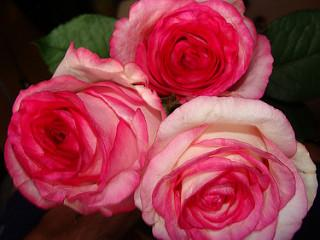Rose: (3, 45, 160, 225), (147, 104, 315, 240), (101, 3, 282, 102)
